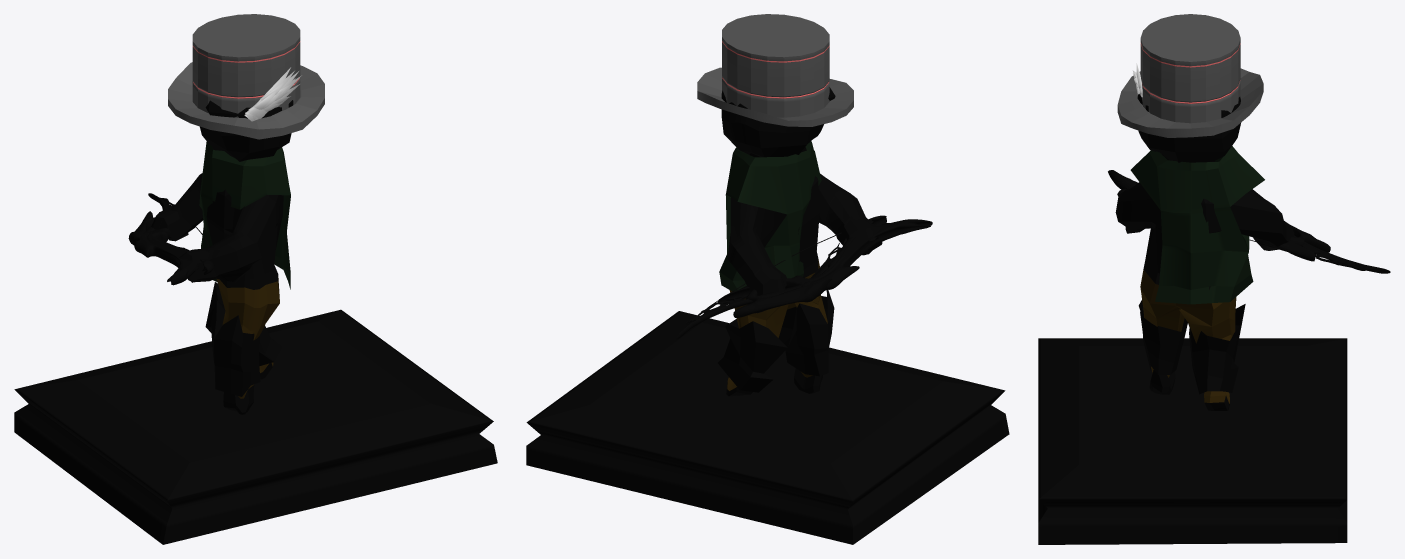
File: Ranger_model_complete.fbx
3 views of the same model, side by side, from view 1: azimuth 30°, elevation 25°; view 2: azimuth 150°, elevation 25°; view 3: azimuth 270°, elevation 25° (orthographic).
Parts seen in each view (by area): view 1: polySurface260; view 2: polySurface260; view 3: polySurface260.
Part boxes in pixels (left/top/right/bottom): polySurface260: left=14, top=14, right=497, bottom=544; polySurface260: left=526, top=14, right=1009, bottom=544; polySurface260: left=1038, top=14, right=1390, bottom=544.
Bounding box in the file's own units: 20.92 × 24.82 × 18.85.
